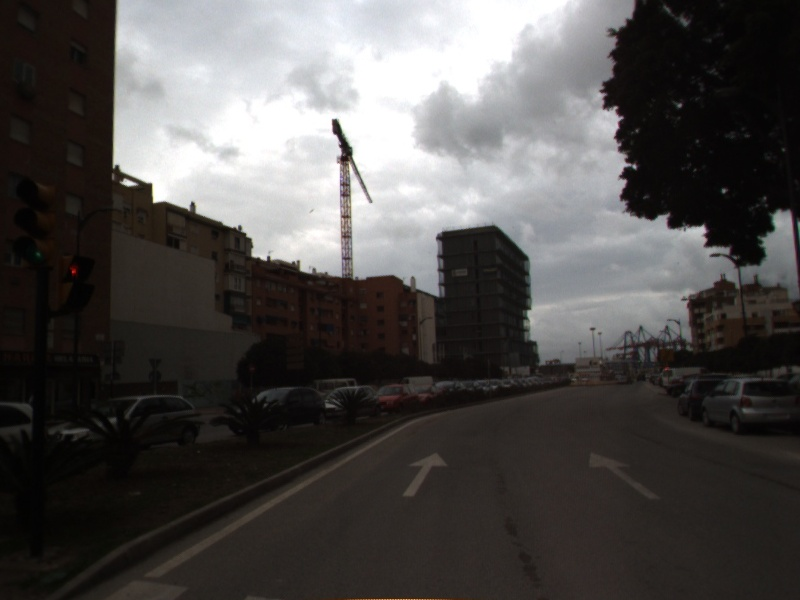STRAIGHT: (586, 450, 663, 502), (400, 449, 451, 499)
